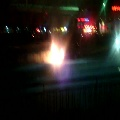fire: (44, 42, 64, 65)
